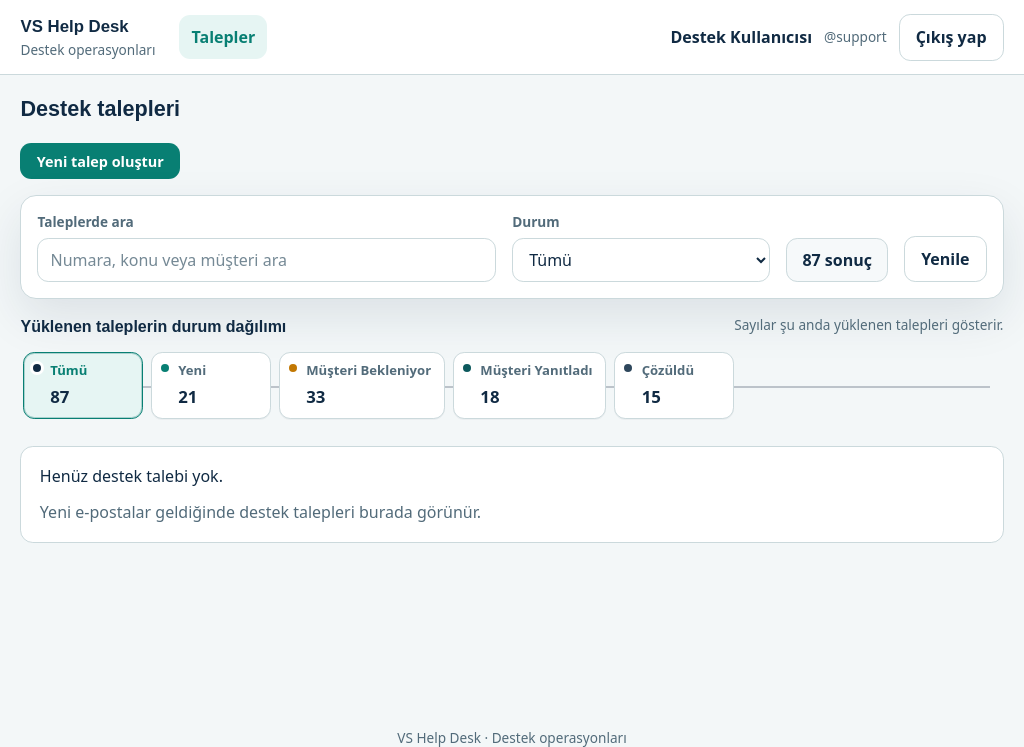
Test: TicketListPage › shows Turkish conflict copy without raw English and enforces browser limits
Click the button "Yeni talep oluştur" at (100, 161), box [20,143,180,179]
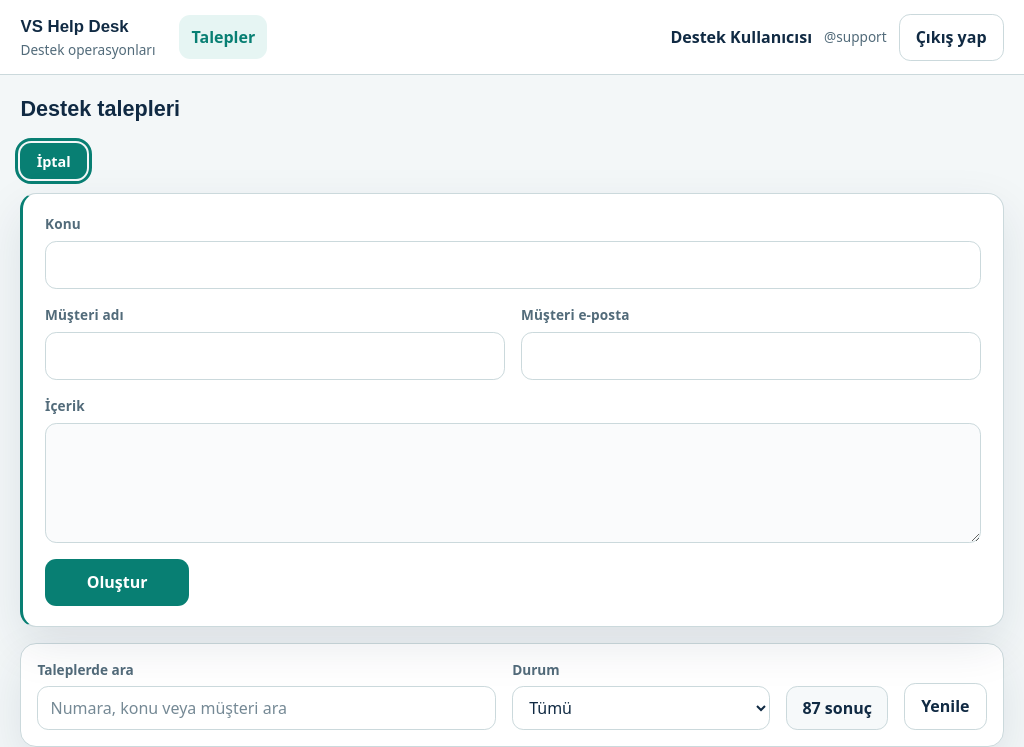
Type "Conflict subject" into the field labelled "Konu" at (513, 265), box [45,241,981,289]
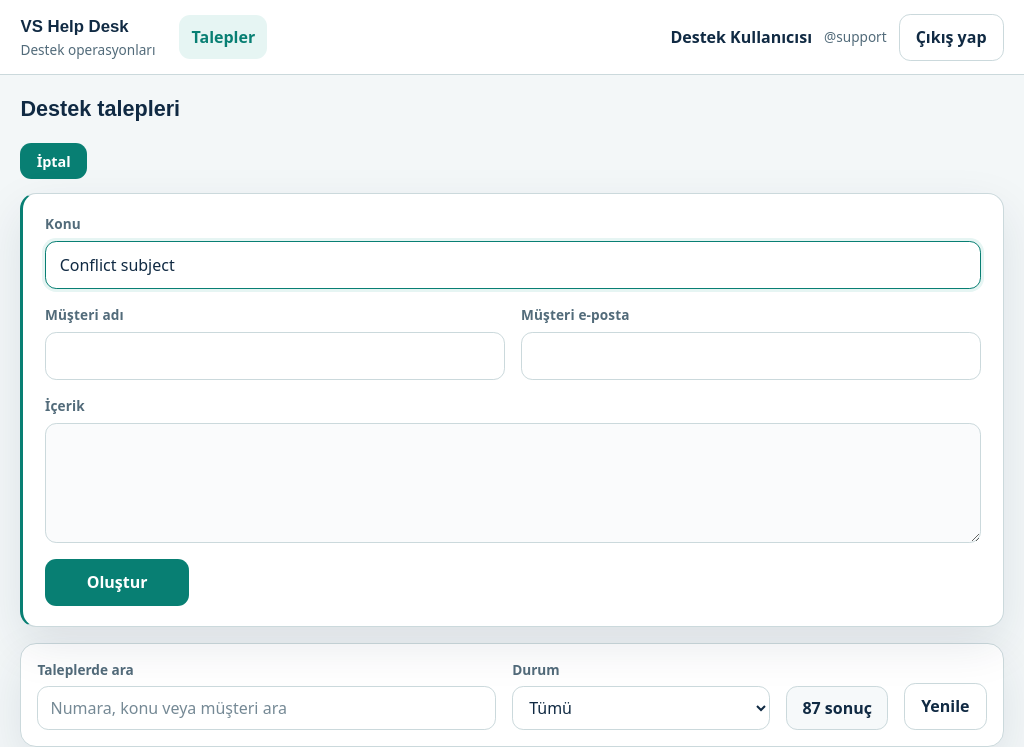
Type "Conflict Customer" into the field labelled "Müşteri adı" at (275, 356), box [45,332,505,380]
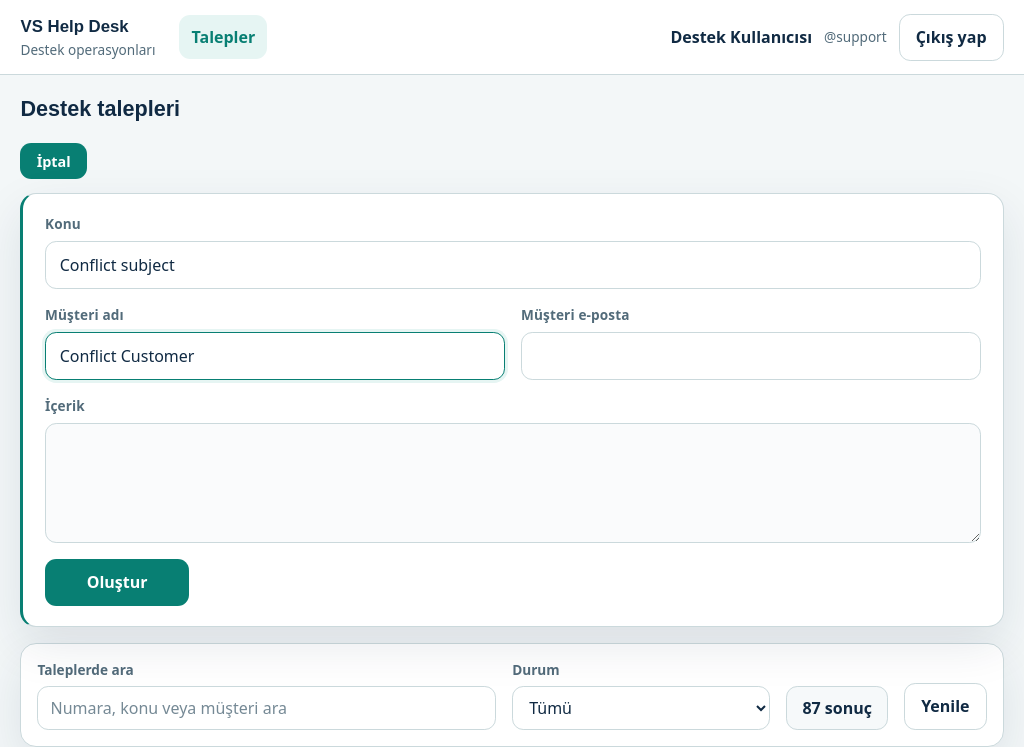
Type "conflict@example.test" into the field labelled "Müşteri e-posta" at (751, 356), box [521,332,981,380]
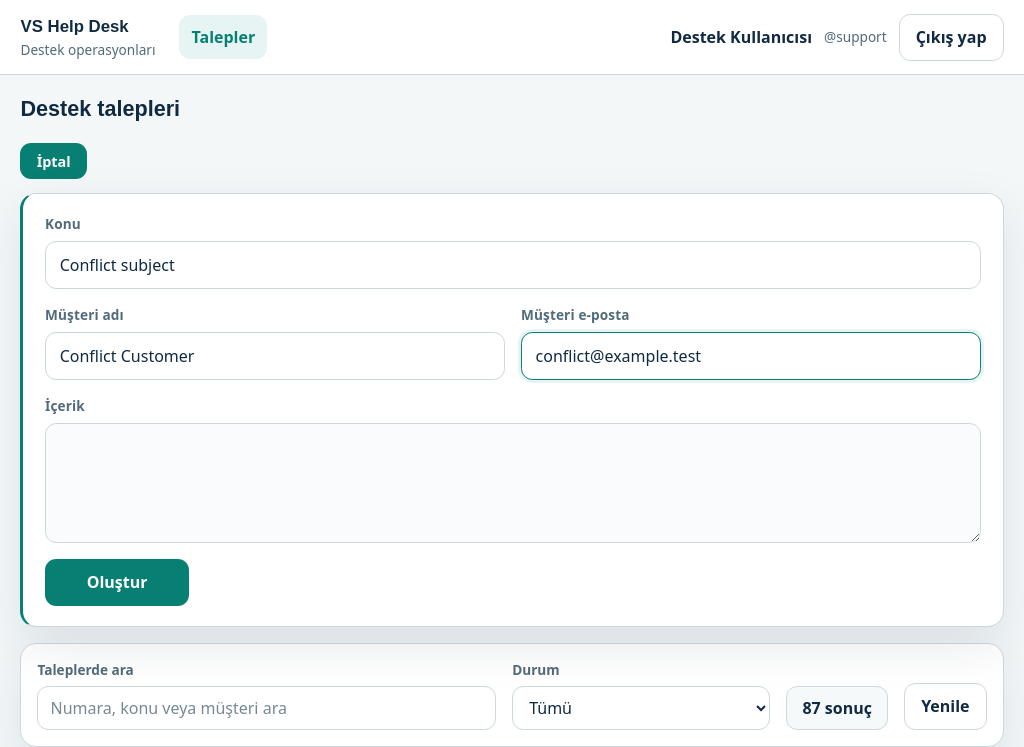
Type "Conflict content" into the text box labelled "İçerik" at (513, 483), box [45,423,981,543]
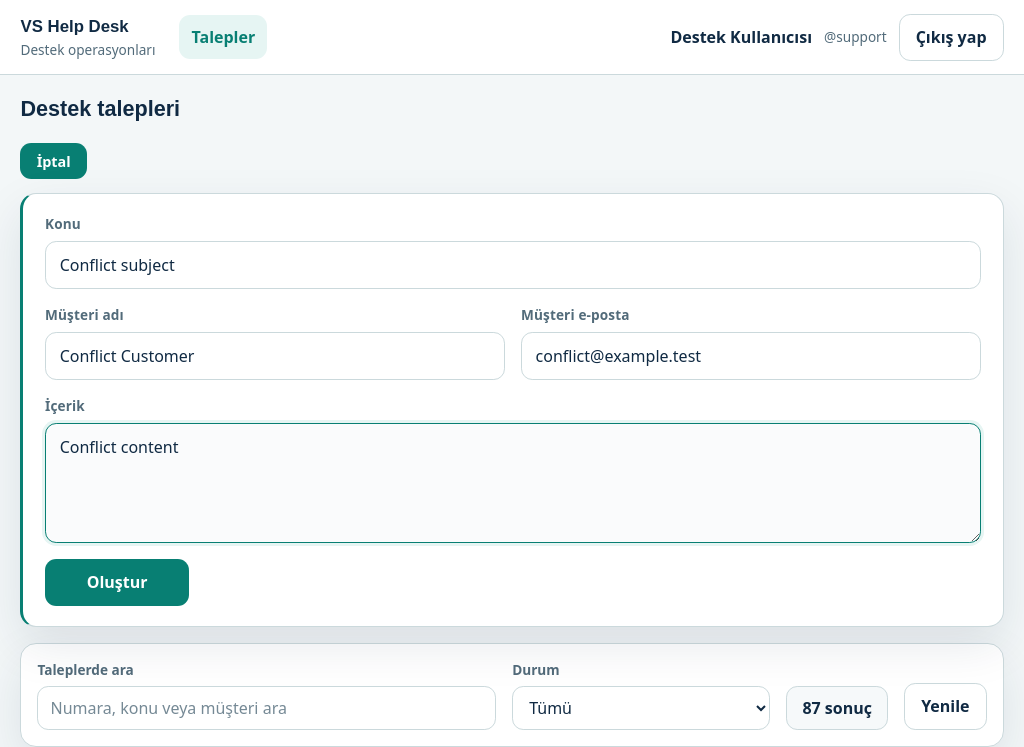
Click the button "Oluştur" at (117, 582), box [45,559,189,606]
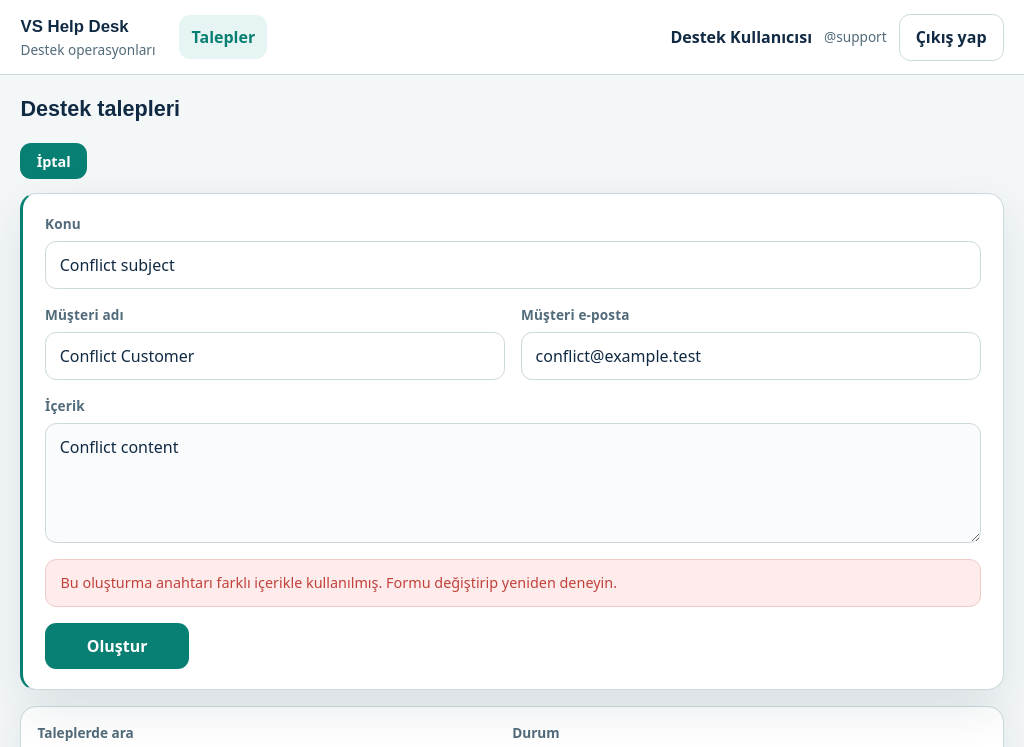
Check: the message does not show "Request failed", box [45,559,981,607]
Check: the message shows "Bu oluşturma anahtarı farklı içerikle kullanılmış. Formu değiştirip yeniden deneyin.", box [60,573,617,592]
